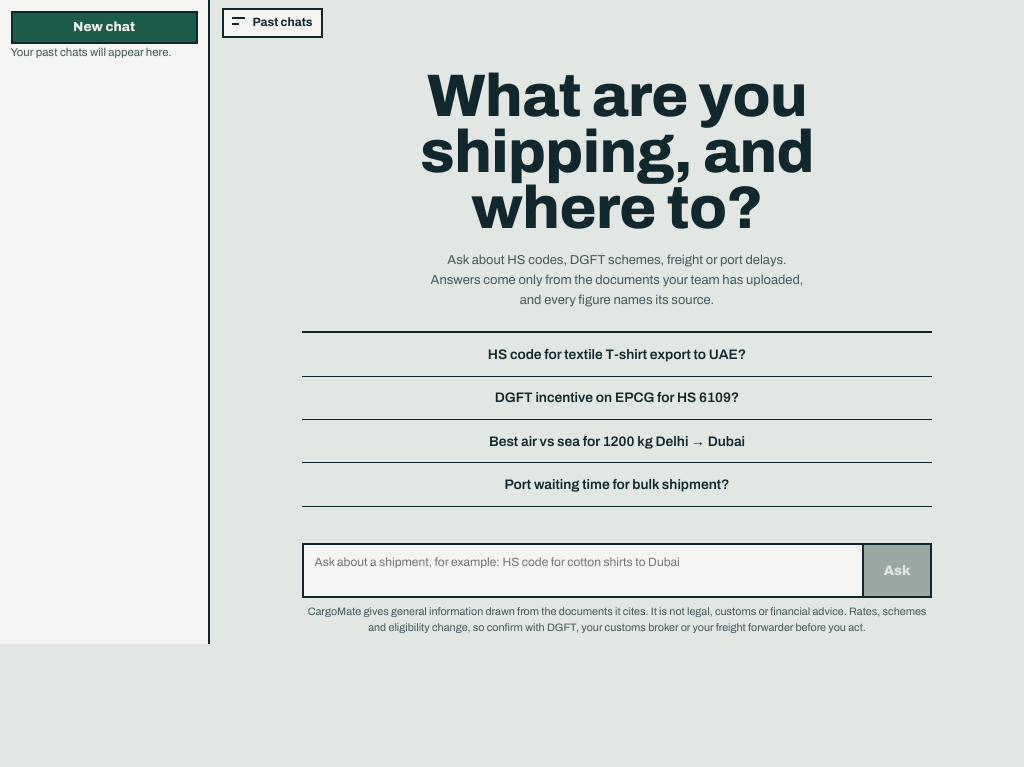
Chat › carries earlier turns as history so follow-ups have context
This screenshot has width=1024, height=767.
In the text box named "Your question": (583, 571) x1=304 y1=545 x2=862 y2=596, type "first question"
Then press Enter
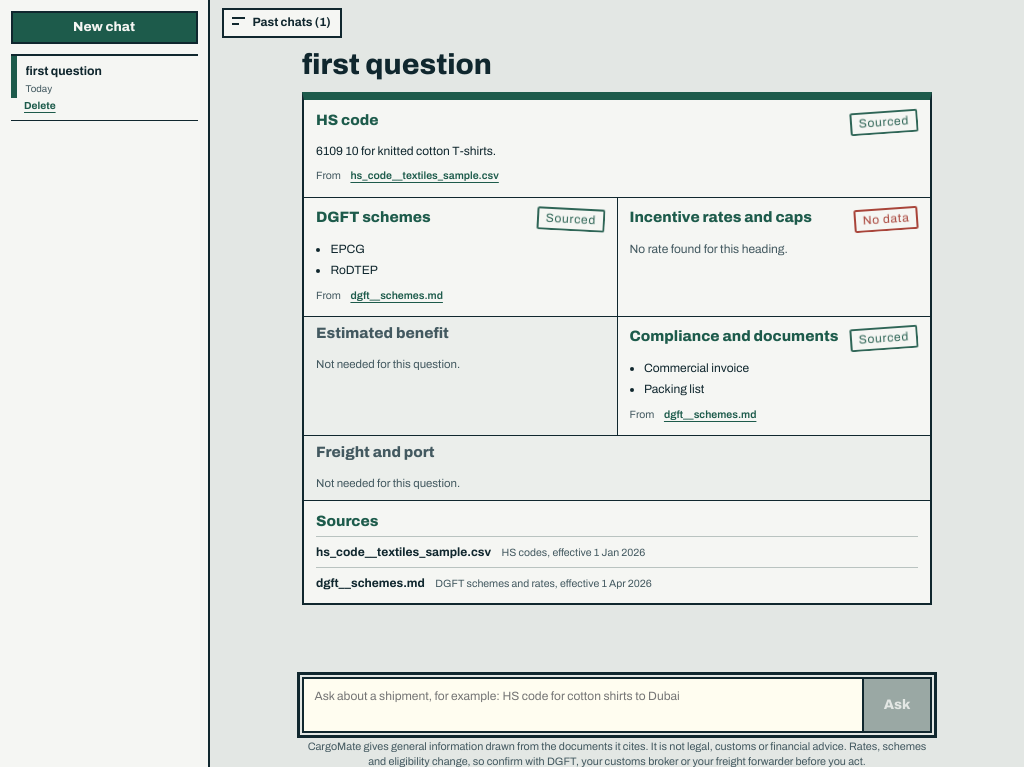
Expected: the text "6109 10 for knitted cotton T-shirts." is shown, x1=316 y1=144 x2=496 y2=158
In the text box named "Your question": (583, 705) x1=304 y1=679 x2=862 y2=731, type "and by sea?"
Then press Enter
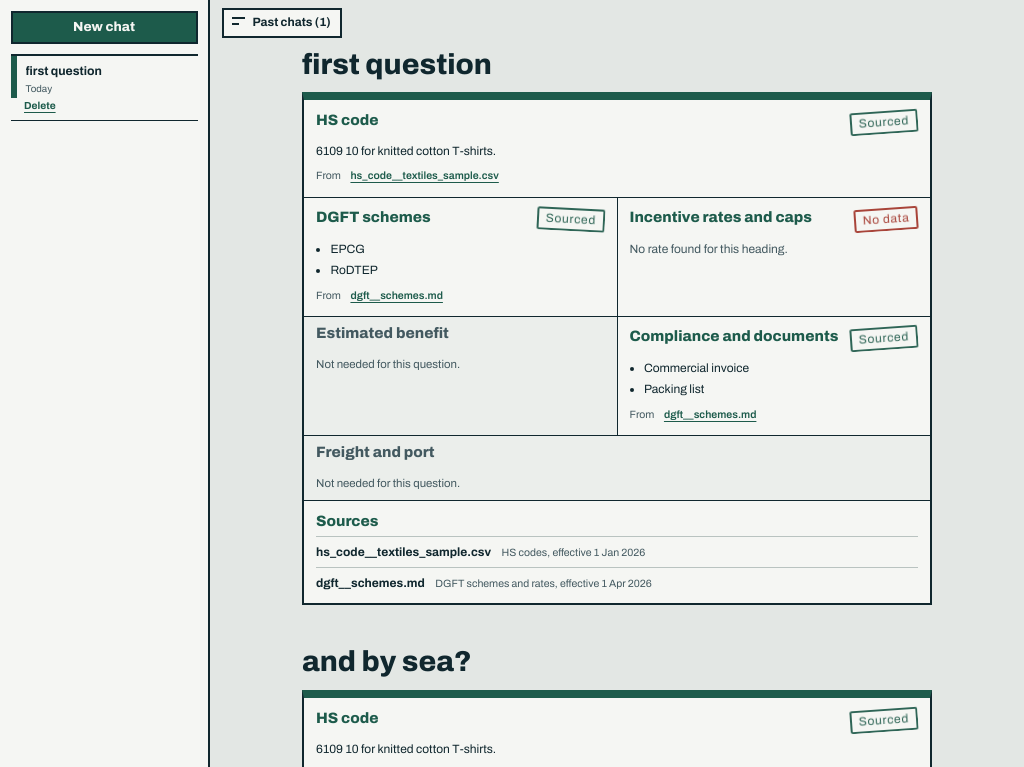
Expected: the text "first question" is shown, x1=26 y1=64 x2=102 y2=78
Expected: the heading "and by sea?" is shown, x1=302 y1=646 x2=472 y2=677
